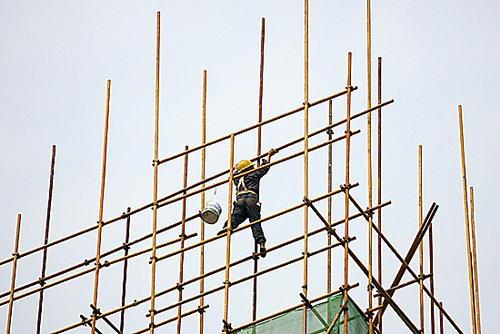helmet: (233, 158, 259, 176)
